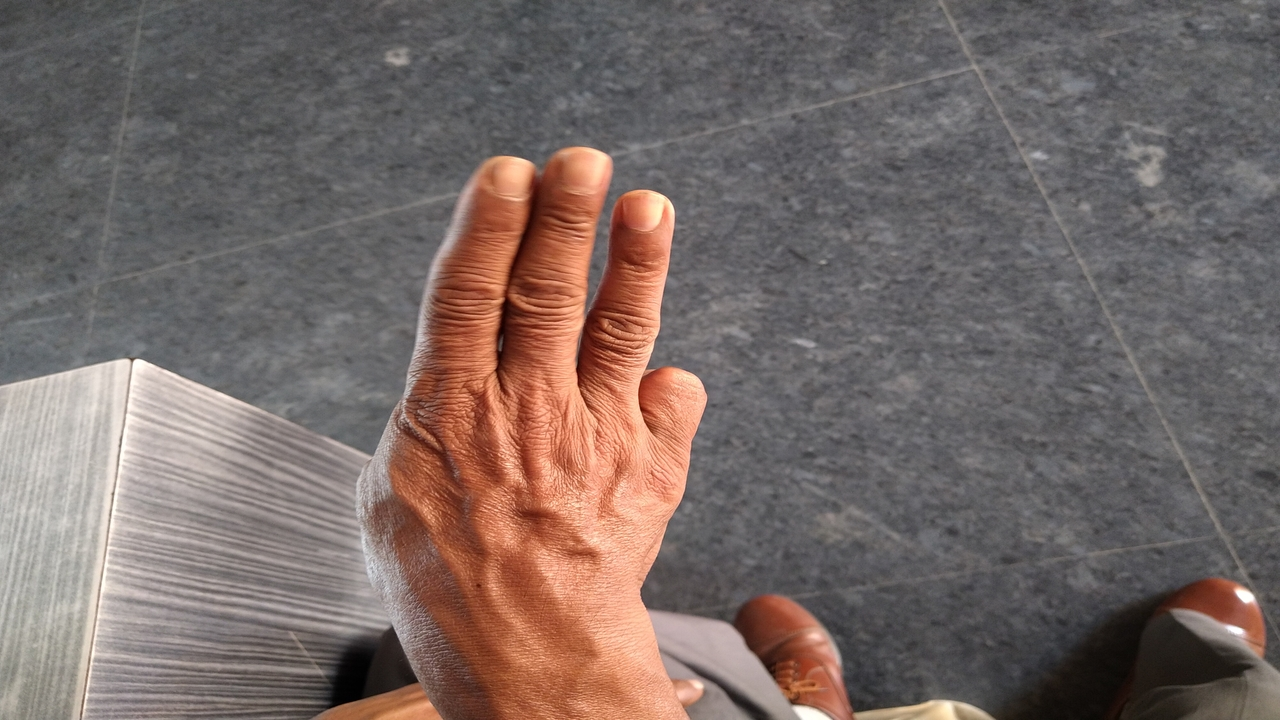fingertip: (452, 152, 536, 222), (534, 140, 614, 202), (608, 178, 676, 240)
